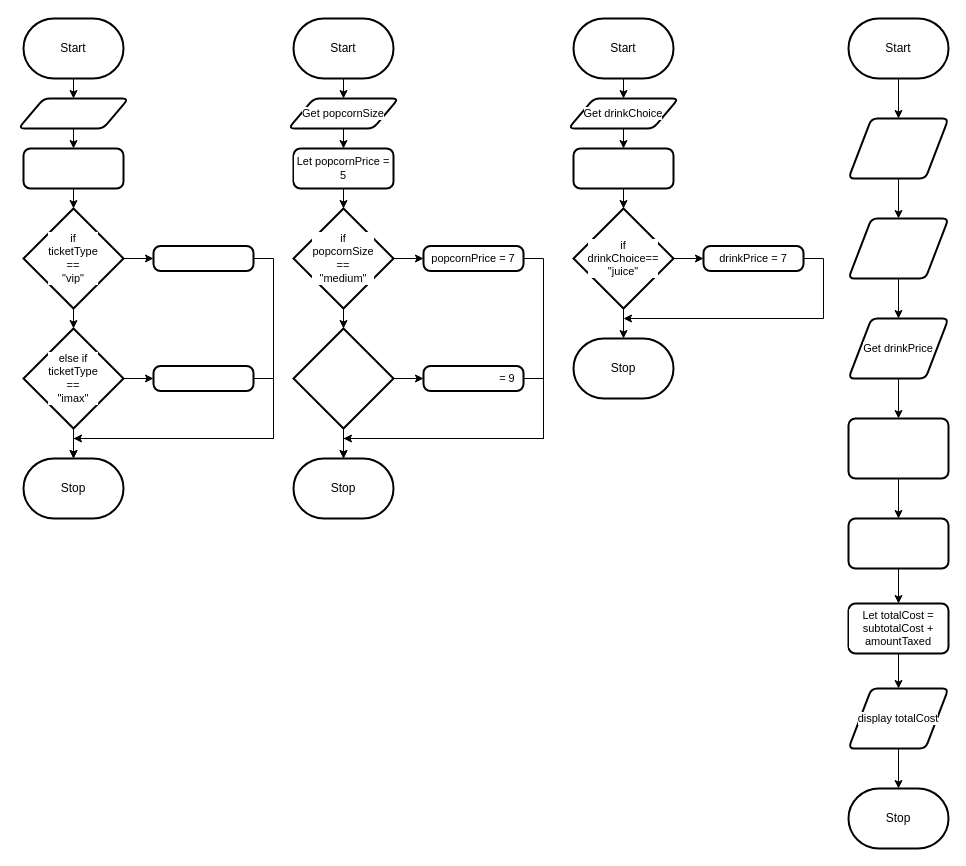
Image size: 966x866. Some labels were removed from this diagram. Here are the shapes that lost their labels. From the top down, the centre of each, then its label:
pixel 73 113: Get ticketType
pixel 73 168: Let ticketPrice = 12
pixel 623 168: Let drinkPrice = 5
pixel 898 148: Get ticketPrice
pixel 203 258: ticketPrice = 18
pixel 898 248: Get popcornPrice
pixel 203 378: ticketPrice = 22
pixel 343 378: else if popcornSize == "large"
pixel 898 448: Let subtotalCost = ticketPrice + popcornPrice + drinkPrice
pixel 898 543: Let amountTaxed = subtotalCost * TAX_RATE
